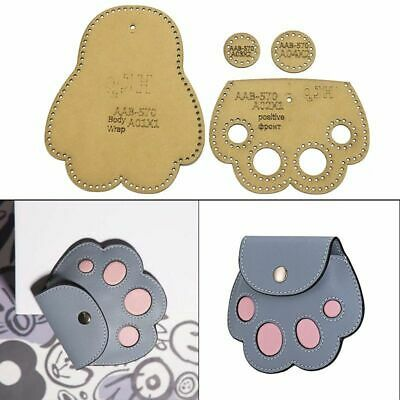cuero: (34, 235, 364, 372)
